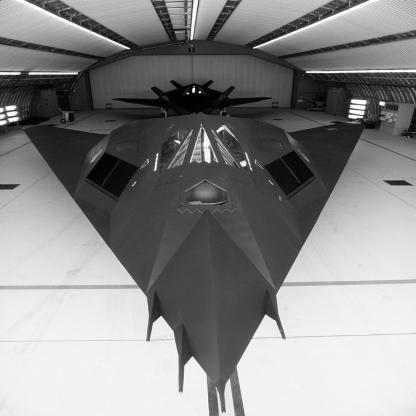F117: (23, 87, 366, 416), (112, 81, 274, 119)
